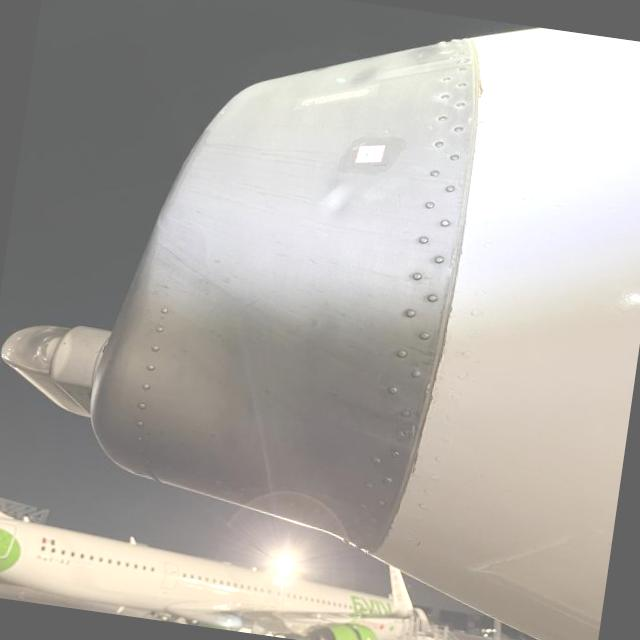dent: (318, 174, 372, 223)
